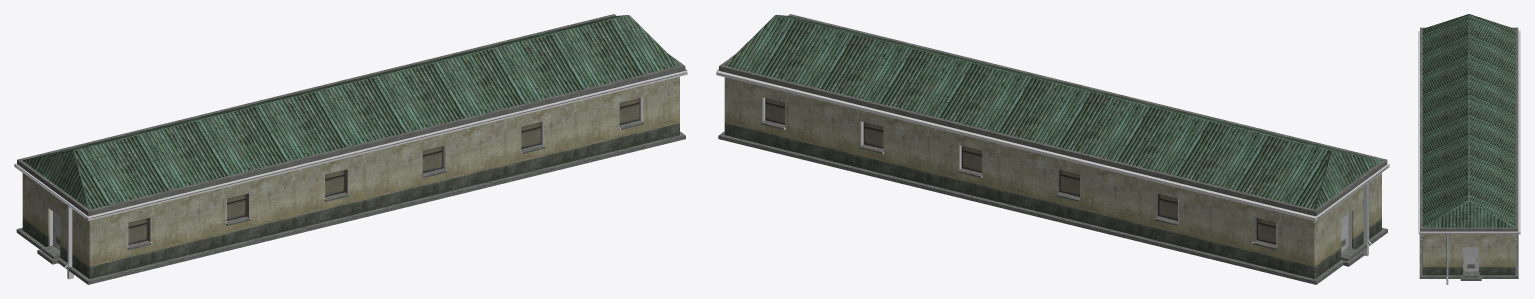
The model's file is support_building_c.fbx.
3 views of the same model, side by side, from view 1: azimuth 30°, elevation 25°; view 2: azimuth 150°, elevation 25°; view 3: azimuth 270°, elevation 25° (orthographic). The views are drawn at different scales.
Parts seen in each view (by area): view 1: support_building_c_mesh, px_support_building_c_mesh; view 2: support_building_c_mesh, px_support_building_c_mesh; view 3: support_building_c_mesh, px_support_building_c_mesh.
Boxes of the visible parts, x1,y1,x2,y2 form: support_building_c_mesh: [15, 14, 687, 284]; px_support_building_c_mesh: [14, 70, 687, 279]; support_building_c_mesh: [716, 14, 1388, 284]; px_support_building_c_mesh: [716, 70, 1389, 255]; support_building_c_mesh: [1418, 14, 1519, 280]; px_support_building_c_mesh: [1418, 30, 1520, 284].
Bounding box in the file's own units: 34.61 × 6.05 × 7.32.
Materials: 6 (6 with a texture image).
